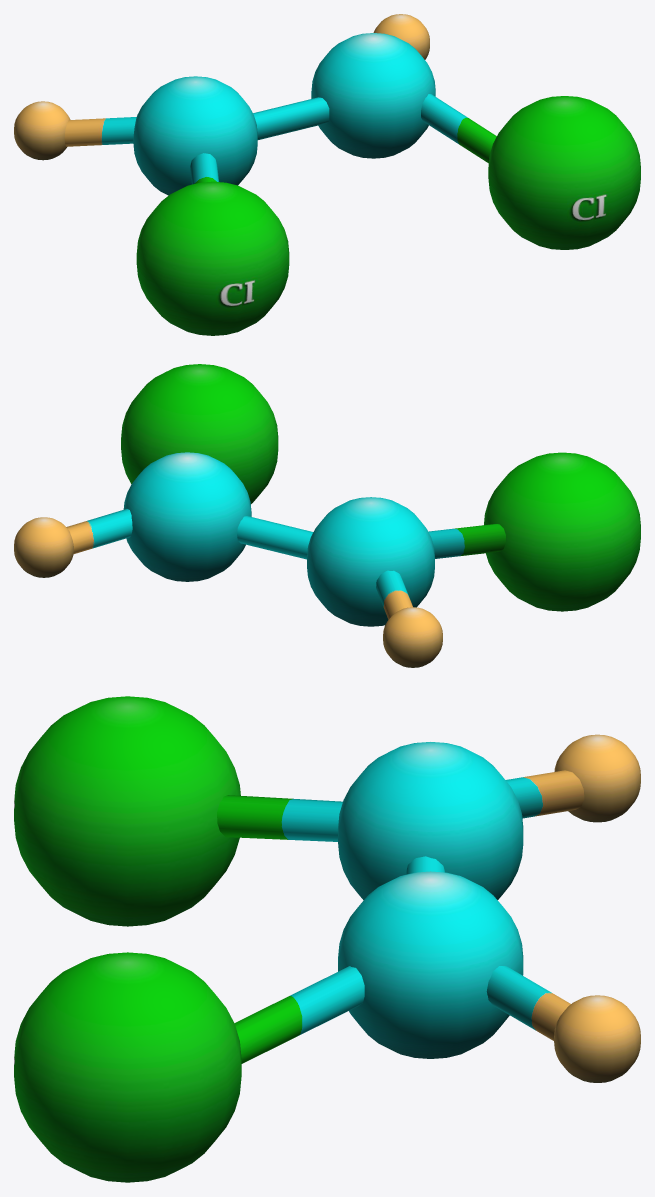
Rendered from Cis-DichloroEthene.dae.
The picture shows the model from 3 angles, top to bottom: view 1: azimuth 30°, elevation 25°; view 2: azimuth 150°, elevation 25°; view 3: azimuth 270°, elevation 25°; orthographic projection. The views are drawn at different scales.
Visible parts, largest first — view 1: polySurface14; view 2: polySurface14; view 3: polySurface14.
Part boxes in pixels (x1,y1,x2,y2): polySurface14: [14, 14, 640, 335]; polySurface14: [14, 364, 640, 667]; polySurface14: [14, 696, 640, 1182].
Bounding box in the file's own units: 6.52 × 1.95 × 4.89.
1 material, 1 textured.
